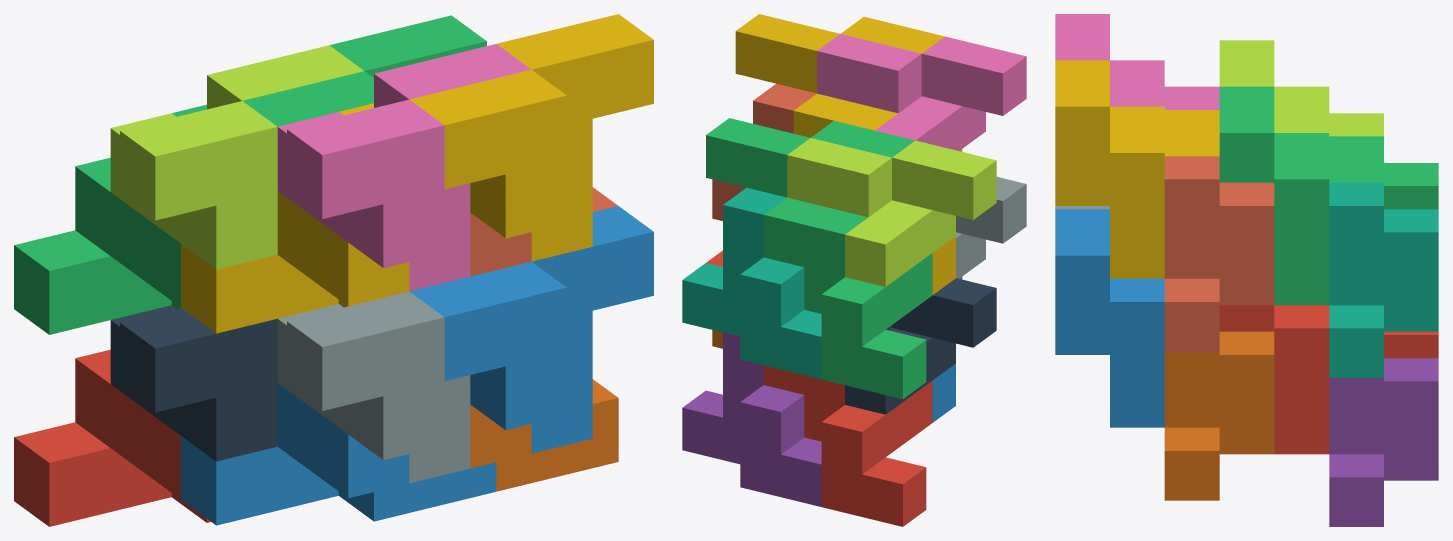
Rendered from tiling.obj.
3 renders of one model, left to right at view 1: azimuth 30°, elevation 25°; view 2: azimuth 150°, elevation 25°; view 3: azimuth 270°, elevation 25°, orthographic. The views are drawn at different scales.
Visible parts, largest first — view 1: copy_2_domain_8, copy_2_domain_4, copy_2_domain_6, copy_2_domain_3, copy_2_domain_2, copy_1_domain_2, copy_2_domain_1, copy_1_domain_3, copy_1_domain_1, copy_1_domain_4, copy_2_domain_7, copy_1_domain_6 (+1 smaller); view 2: copy_2_domain_3, copy_2_domain_4, copy_1_domain_3, copy_1_domain_7, copy_1_domain_5, copy_1_domain_1, copy_2_domain_7, copy_2_domain_8, copy_2_domain_1, copy_2_domain_2, copy_1_domain_8, copy_1_domain_4 (+2 smaller); view 3: copy_2_domain_8, copy_1_domain_8, copy_1_domain_7, copy_2_domain_7, copy_2_domain_6, copy_1_domain_6, copy_1_domain_5, copy_2_domain_5, copy_2_domain_3, copy_2_domain_4, copy_1_domain_3, copy_1_domain_1 (+1 smaller).
Part boxes in pixels (box(x1,y1,x2,y2)): copy_2_domain_8: box(409, 14, 653, 261); copy_2_domain_4: box(277, 44, 530, 291); copy_2_domain_6: box(409, 206, 653, 453); copy_2_domain_3: box(110, 45, 363, 269); copy_2_domain_2: box(277, 291, 470, 483); copy_1_domain_2: box(181, 383, 496, 525); copy_2_domain_1: box(110, 305, 277, 461); copy_1_domain_3: box(14, 104, 206, 334); copy_1_domain_1: box(14, 349, 210, 526); copy_1_domain_4: box(181, 103, 409, 333); copy_2_domain_7: box(243, 15, 486, 126); copy_1_domain_6: box(470, 379, 618, 491); copy_2_domain_3: box(787, 138, 996, 286); copy_2_domain_4: box(817, 34, 1026, 150); copy_1_domain_3: box(804, 207, 932, 399); copy_1_domain_7: box(682, 187, 821, 379); copy_1_domain_5: box(682, 332, 821, 506); copy_1_domain_1: box(804, 375, 932, 526); copy_2_domain_7: box(706, 118, 914, 266); copy_2_domain_8: box(735, 14, 944, 137); copy_2_domain_1: box(845, 278, 996, 414); copy_2_domain_2: box(956, 177, 1026, 278); copy_1_domain_8: box(712, 83, 816, 220); copy_1_domain_4: box(834, 103, 962, 294); copy_2_domain_8: box(1055, 60, 1219, 278); copy_1_domain_8: box(1164, 156, 1274, 351); copy_1_domain_7: box(1329, 182, 1438, 377); copy_2_domain_7: box(1219, 86, 1383, 305); copy_2_domain_6: box(1055, 209, 1164, 427); copy_1_domain_6: box(1164, 331, 1274, 500); copy_1_domain_5: box(1329, 358, 1438, 526); copy_2_domain_5: box(1219, 305, 1329, 454); copy_2_domain_3: box(1219, 40, 1383, 136); copy_2_domain_4: box(1055, 14, 1219, 109); copy_1_domain_3: box(1329, 136, 1438, 209); copy_1_domain_1: box(1384, 331, 1438, 358).
Size of the model in its own units: 7 by 8 by 7.
